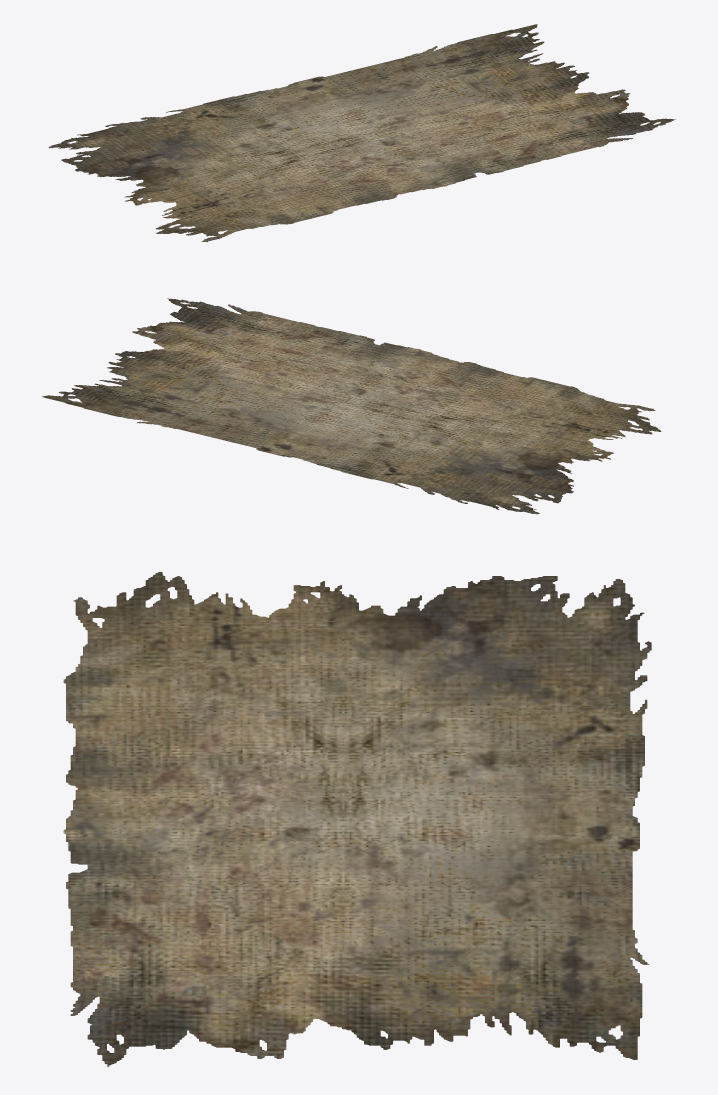
File: rag.fbx
The picture shows the model from 3 angles, top to bottom: view 1: azimuth 30°, elevation 25°; view 2: azimuth 150°, elevation 25°; view 3: azimuth 270°, elevation 25°; orthographic projection. The views are drawn at different scales.
Parts seen in each view (by area): view 1: rag; view 2: rag; view 3: rag.
Part boxes in pixels (left/top/right/bottom): rag: left=48, top=24, right=676, bottom=242; rag: left=42, top=298, right=661, bottom=514; rag: left=63, top=571, right=651, bottom=1067.
Size of the model in its own units: 70.02 by 0 by 34.54.
